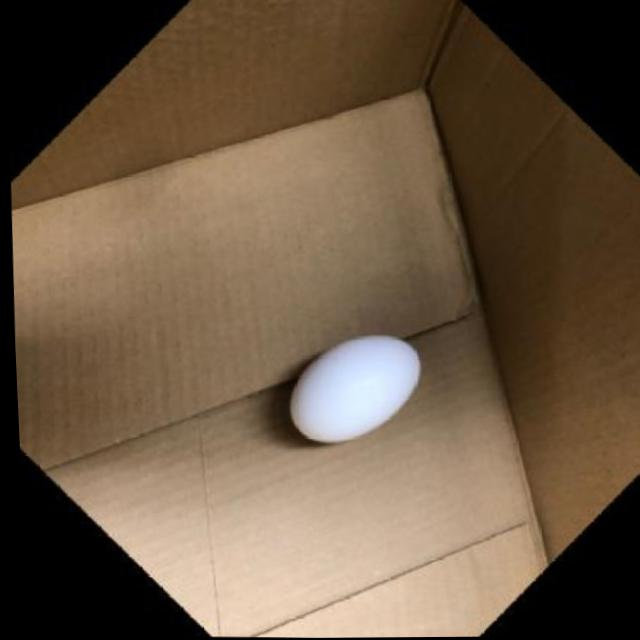egg: (269, 326, 436, 455)
